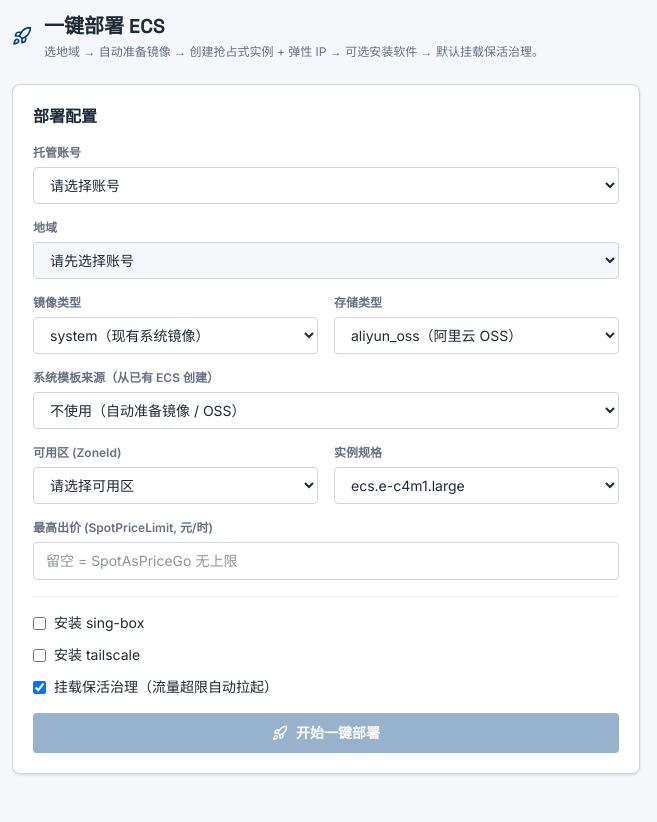
Test: DeploymentPage form › shows VNC flow hint when image type is installer
Select "installer（Alpine 安装器，需 VNC 安装）" in the dropdown labelled "镜像类型" at (176, 336), box [33,317,318,354]
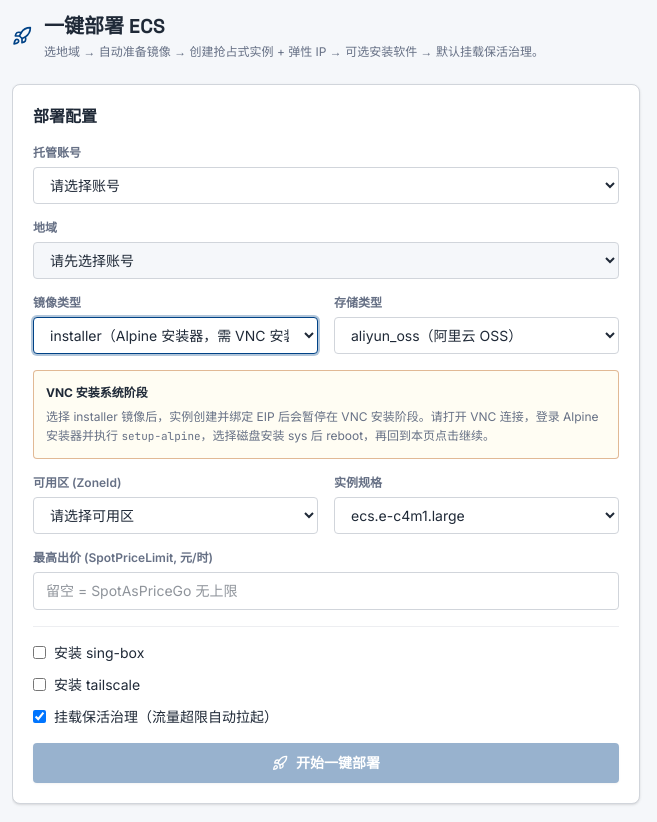
Now the text "VNC 安装系统阶段" is shown, box [46,385,148,400]
Now the text "setup-alpine" is shown, box [121,429,201,443]
